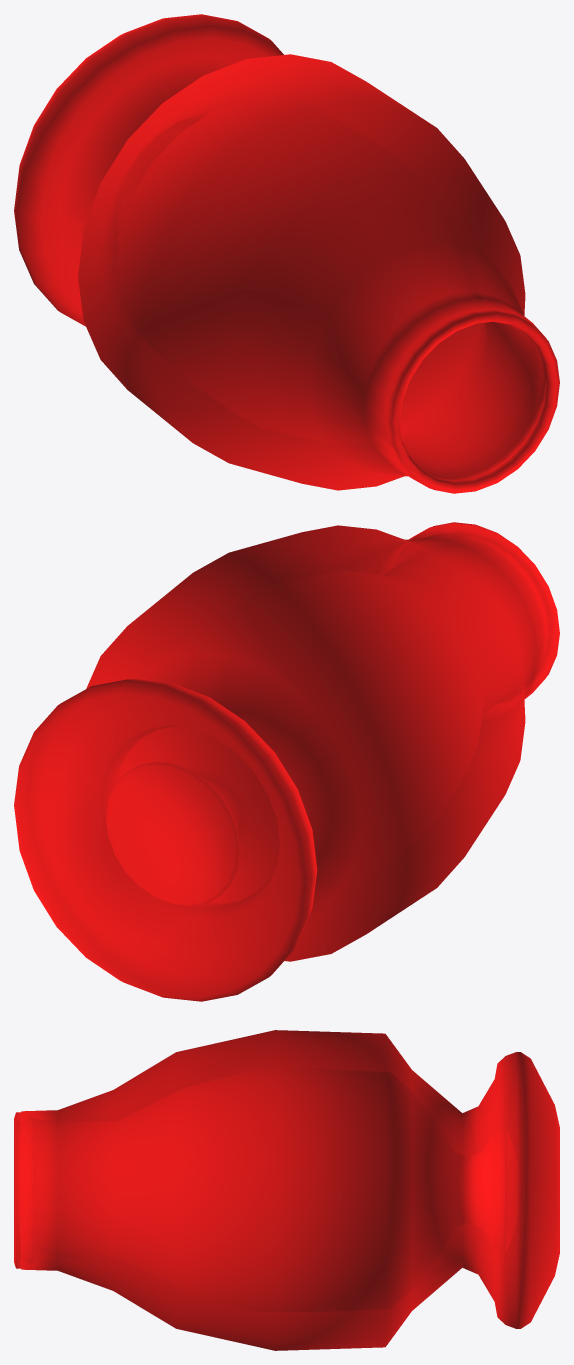
File: model_align.obj
3 views of the same model, one above another, from view 1: azimuth 30°, elevation 25°; view 2: azimuth 150°, elevation 25°; view 3: azimuth 270°, elevation 25° (orthographic). The views are drawn at different scales.
Visible parts, largest first — view 1: mesh1_mesh1-geometry; view 2: mesh1_mesh1-geometry; view 3: mesh1_mesh1-geometry.
Boxes of the visible parts, box(x1,y1,x2,y2) form: mesh1_mesh1-geometry: box(14, 14, 559, 493); mesh1_mesh1-geometry: box(14, 522, 559, 1001); mesh1_mesh1-geometry: box(14, 1030, 559, 1350).
Size of the model in its own units: 0.1029 by 0.1029 by 0.1744.
